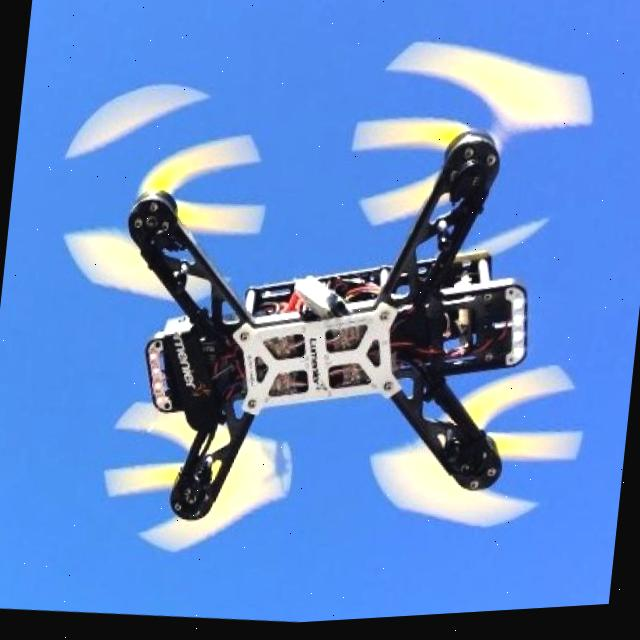drone: (16, 32, 638, 582)
